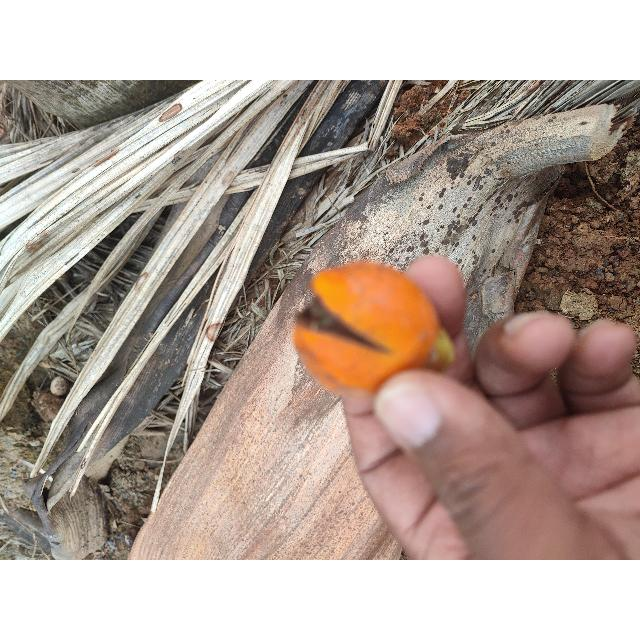damaged: (294, 262, 454, 395)
